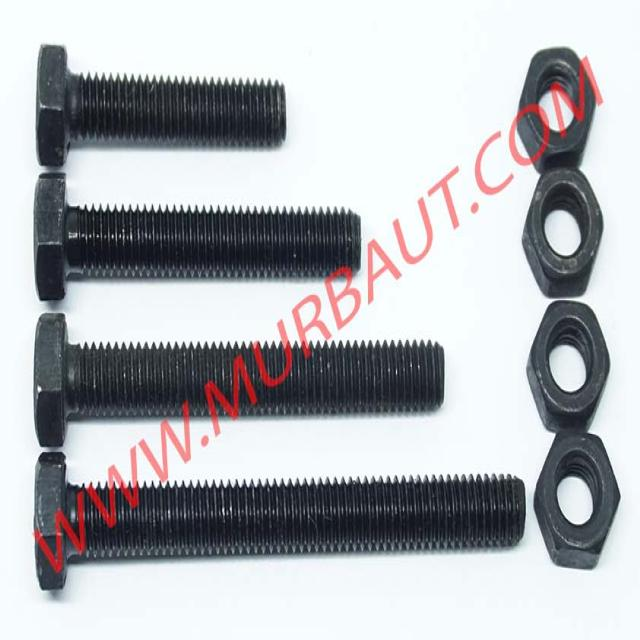Logam: (12, 450, 527, 603), (18, 302, 460, 448), (27, 27, 340, 181), (16, 176, 398, 291), (512, 21, 606, 159), (512, 165, 602, 302), (534, 428, 617, 575), (516, 305, 608, 429)
